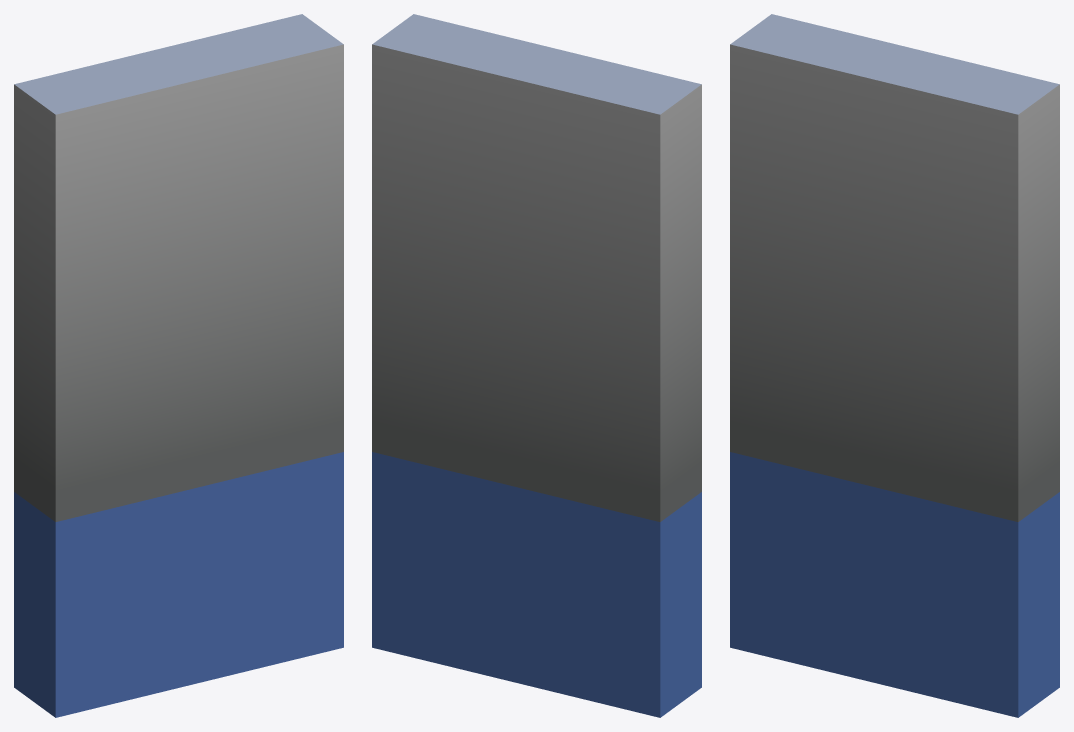
The model's file is S3_wall_base.fbx.
3 views of the same model, side by side, from view 1: azimuth 30°, elevation 25°; view 2: azimuth 150°, elevation 25°; view 3: azimuth 330°, elevation 25° (orthographic).
Parts seen in each view (by area): view 1: S3_wall_base; view 2: S3_wall_base; view 3: S3_wall_base.
Boxes of the visible parts, x1,y1,x2,y2 form: S3_wall_base: (14, 14, 343, 717); S3_wall_base: (372, 14, 701, 717); S3_wall_base: (730, 14, 1059, 717).
Size of the model in its own units: 1 by 2 by 0.25.
